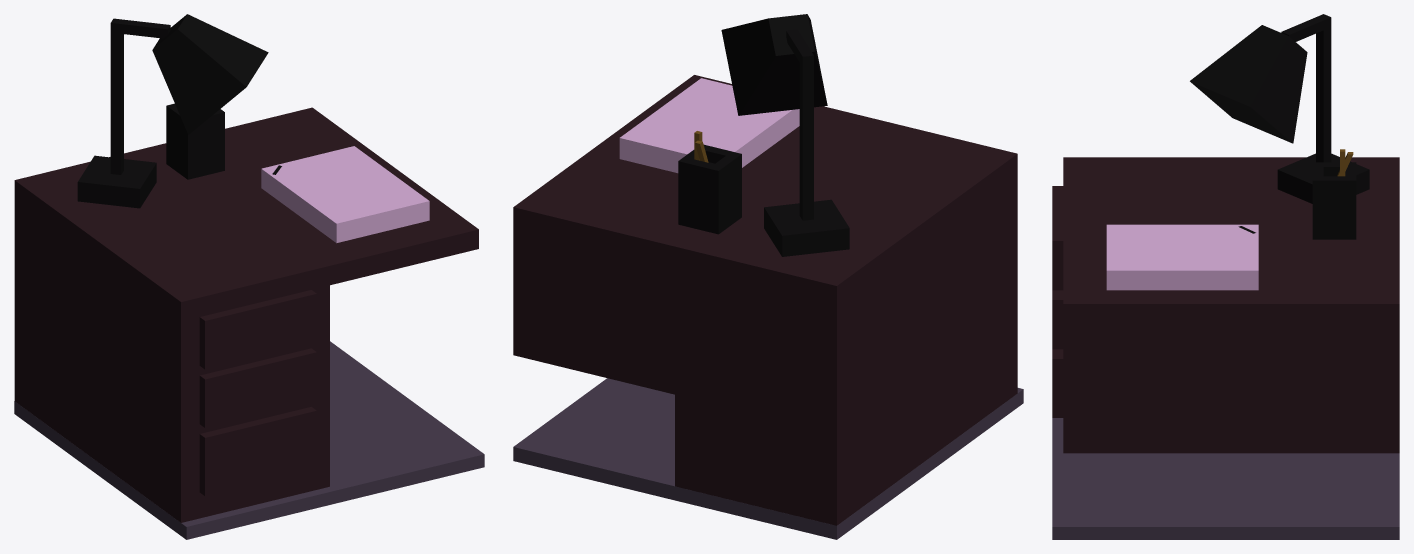
Rendered from officeDesk2.dae.
The picture shows the model from 3 angles, left to right: view 1: azimuth 30°, elevation 25°; view 2: azimuth 150°, elevation 25°; view 3: azimuth 270°, elevation 25°; orthographic projection. The views are drawn at different scales.
Parts seen in each view (by area): view 1: officeDesk2_MSH; view 2: officeDesk2_MSH; view 3: officeDesk2_MSH.
Part boxes in pixels (box(x1,y1,x2,y2)): officeDesk2_MSH: box(14, 14, 484, 539); officeDesk2_MSH: box(513, 14, 1023, 539); officeDesk2_MSH: box(1052, 14, 1399, 539).
Bounding box in the file's own units: 1 × 1.32 × 1.
